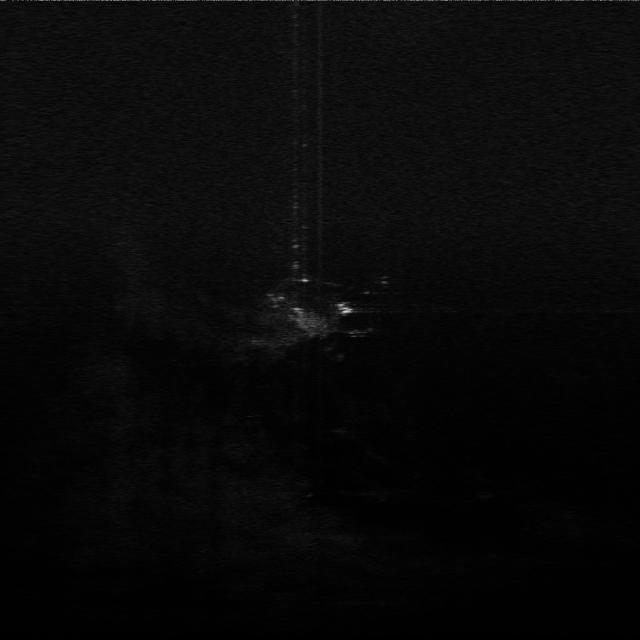rov: (333, 299, 356, 316)
